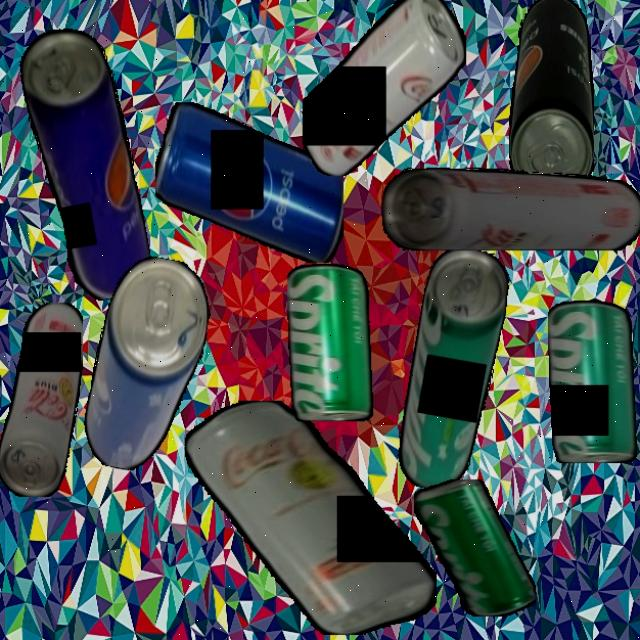debris: (185, 400, 437, 635), (15, 20, 156, 307), (78, 251, 218, 478), (392, 243, 514, 496), (154, 101, 343, 263), (302, 0, 466, 176), (381, 167, 640, 250), (508, 0, 594, 199), (413, 479, 536, 616), (0, 301, 83, 497), (548, 300, 637, 463), (287, 263, 373, 421)
